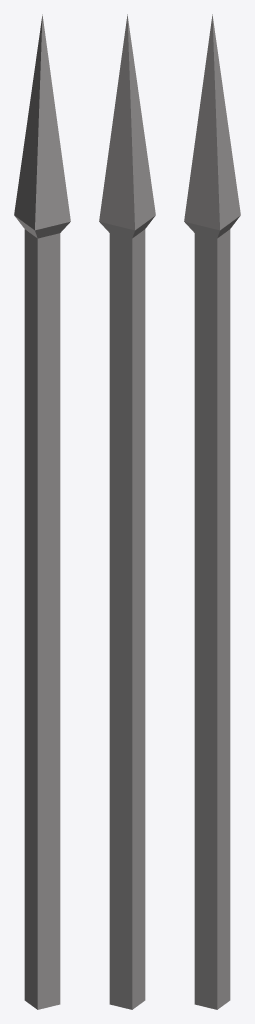
The model's file is MetalSpike_6.fbx.
3 renders of one model, left to right at view 1: azimuth 30°, elevation 25°; view 2: azimuth 150°, elevation 25°; view 3: azimuth 330°, elevation 25°, orthographic.
Parts seen in each view (by area): view 1: MetalSpike_6; view 2: MetalSpike_6; view 3: MetalSpike_6.
Part boxes in pixels (left/top/right/bottom): MetalSpike_6: left=14, top=14, right=70, bottom=1009; MetalSpike_6: left=99, top=14, right=155, bottom=1009; MetalSpike_6: left=184, top=14, right=240, bottom=1009.
Size of the model in its own units: 6.41 by 168 by 6.41.
